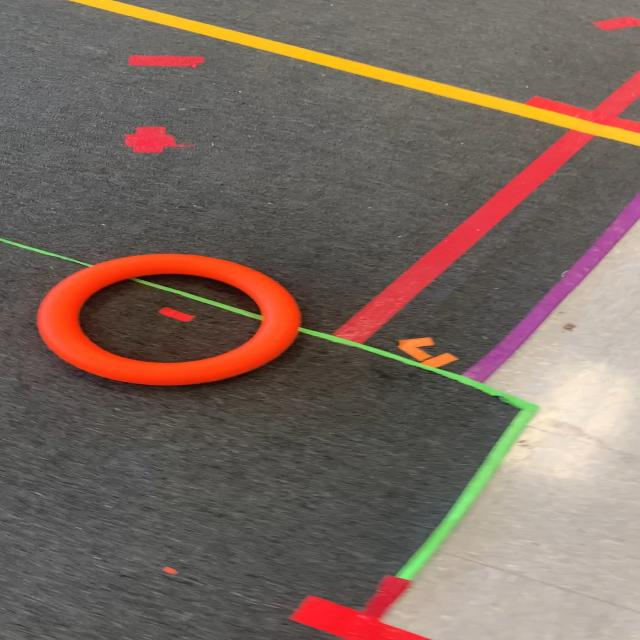notes: (36, 250, 297, 386)
